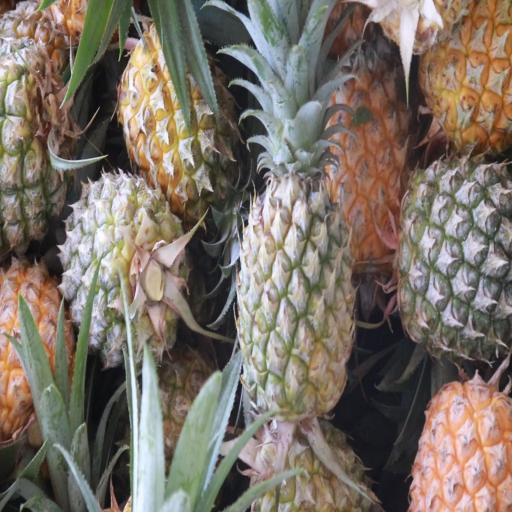------------------------------: (64, 175, 187, 359), (122, 22, 240, 210)
Pineapple - v8 v1: (329, 47, 414, 254), (1, 253, 76, 440), (424, 0, 512, 159)
